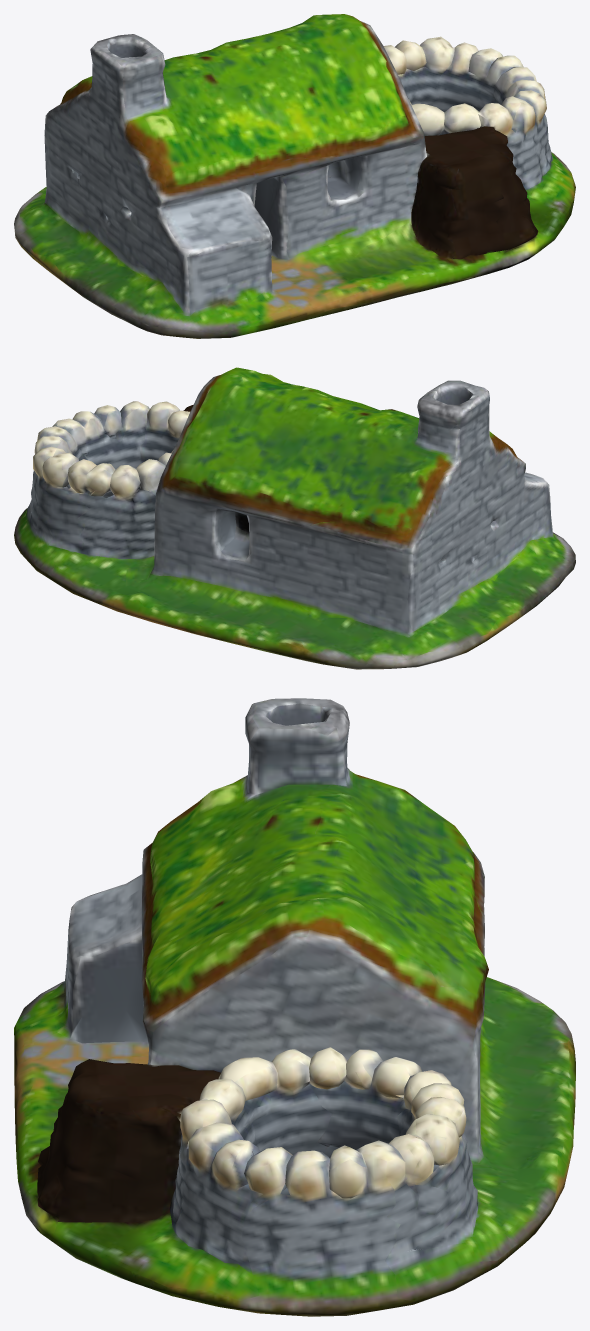
Rendered from village_moor_b.glb.
3 views of the same model, one above another, from view 1: azimuth 30°, elevation 25°; view 2: azimuth 150°, elevation 25°; view 3: azimuth 270°, elevation 25° (orthographic). The views are drawn at different scales.
Parts seen in each view (by area): view 1: world; view 2: world; view 3: world.
Part boxes in pixels (x1,y1,x2,y2): world: [14, 14, 575, 338]; world: [14, 367, 575, 669]; world: [14, 698, 575, 1316].
Bounding box in the file's own units: 1 × 0.4276 × 0.6985.
1 material, 1 textured.
